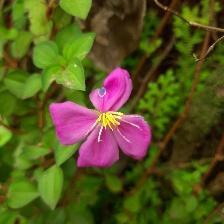malabar melastome: (49, 67, 155, 173)
